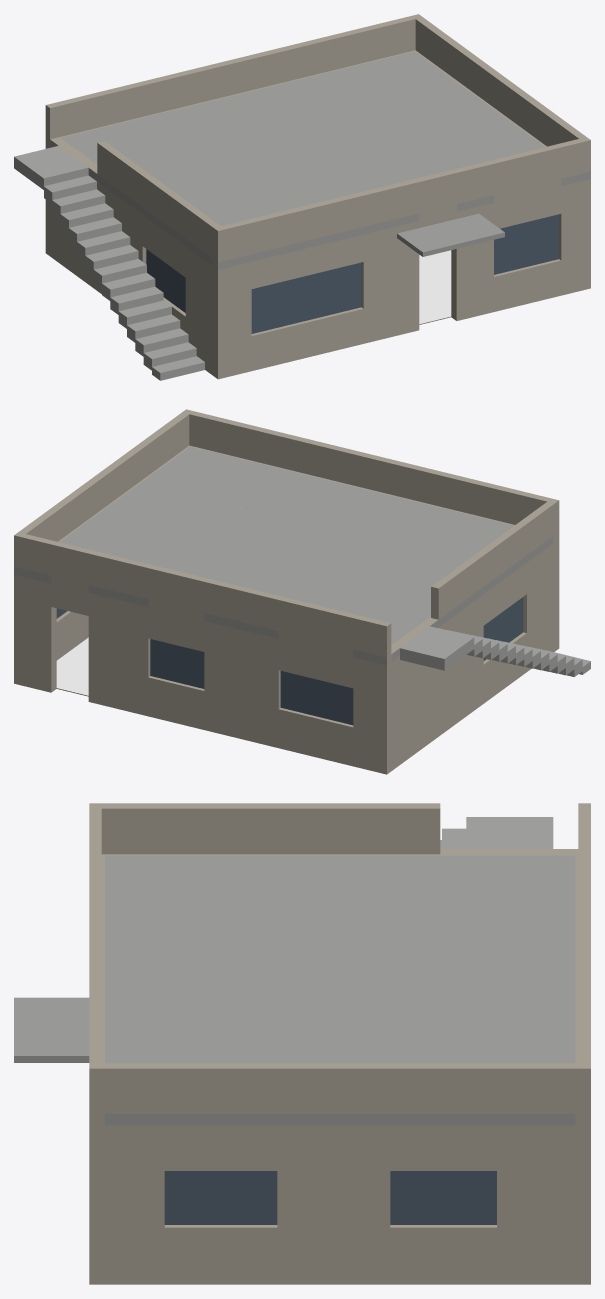
Rendered from bungalow.int-v1.lod0.glb.
3 renders of one model, top to bottom at view 1: azimuth 30°, elevation 25°; view 2: azimuth 150°, elevation 25°; view 3: azimuth 270°, elevation 25°, orthographic. The views are drawn at different scales.
Parts seen in each view (by area): view 1: bungalow; view 2: bungalow; view 3: bungalow.
Part boxes in pixels (x1,y1,x2,y2): bungalow: (14, 14, 590, 380); bungalow: (14, 409, 590, 774); bungalow: (14, 803, 590, 1284).
Size of the model in its own units: 11.2 by 3.8 by 9.2.
